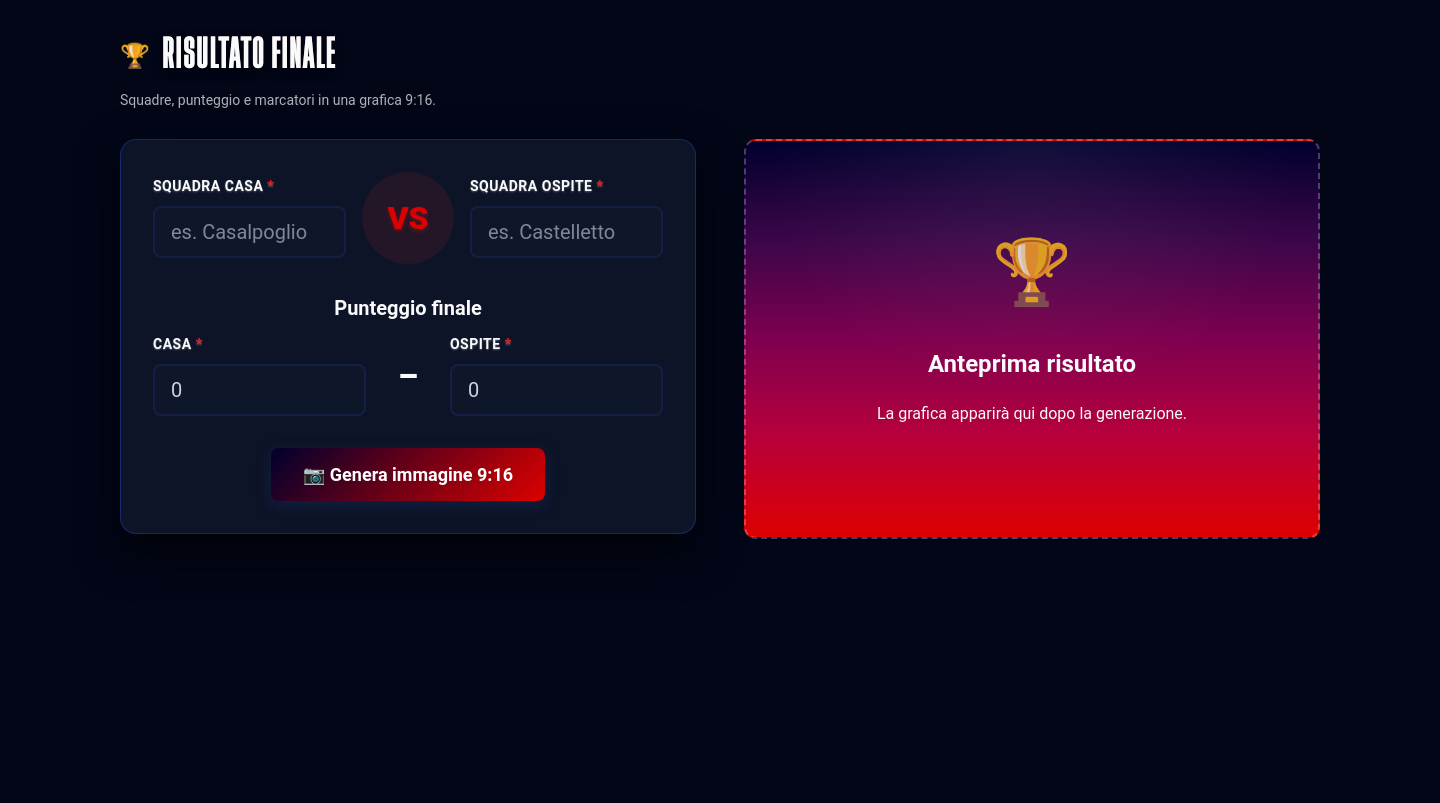
it: persistenza del risultato finale › aggiorna il numero dei marcatori quando cambiano i nomi e il punteggio
This screenshot has width=1440, height=803.
Type "Polisportiva Casalpoglo" into the field labelled "Squadra casa*".
click(250, 232); type("Polisportiva Casalpoglo")  # box [153,206,346,258]
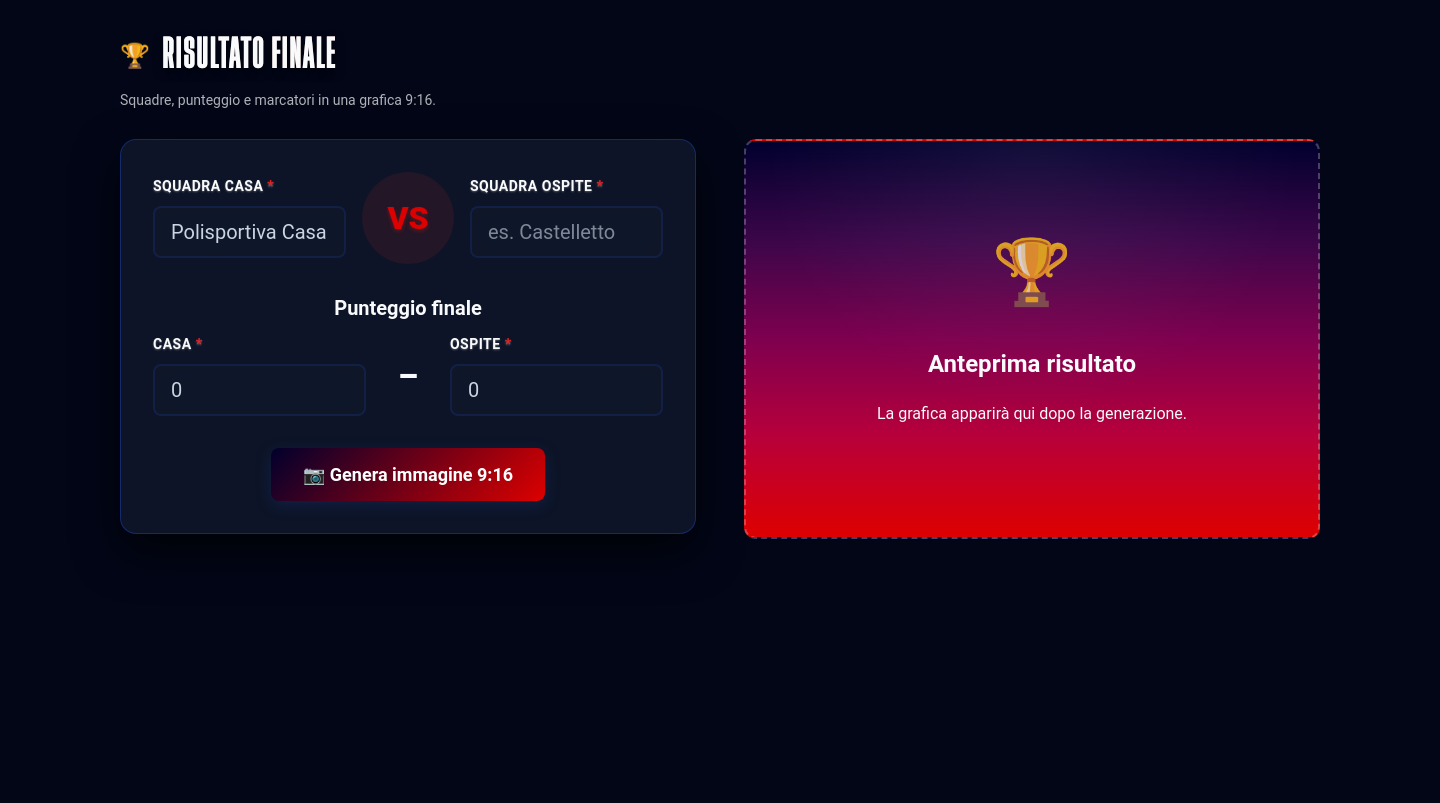
Type "Castelletto" into the field labelled "Squadra ospite*".
click(566, 232); type("Castelletto")  # box [470,206,663,258]
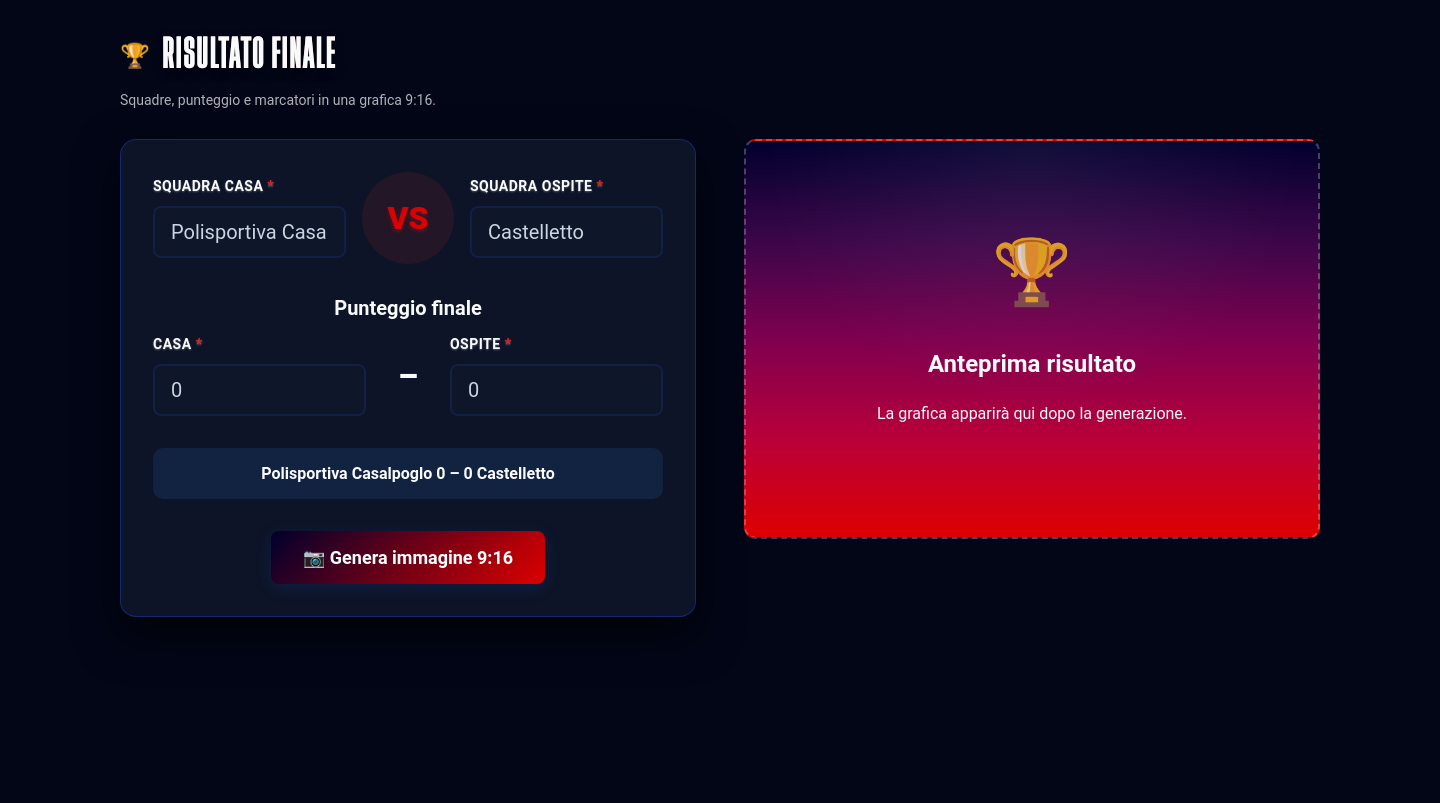
Replace the text in the number field labelled "Casa*" with "1" at (260, 390), box [153,364,366,416]
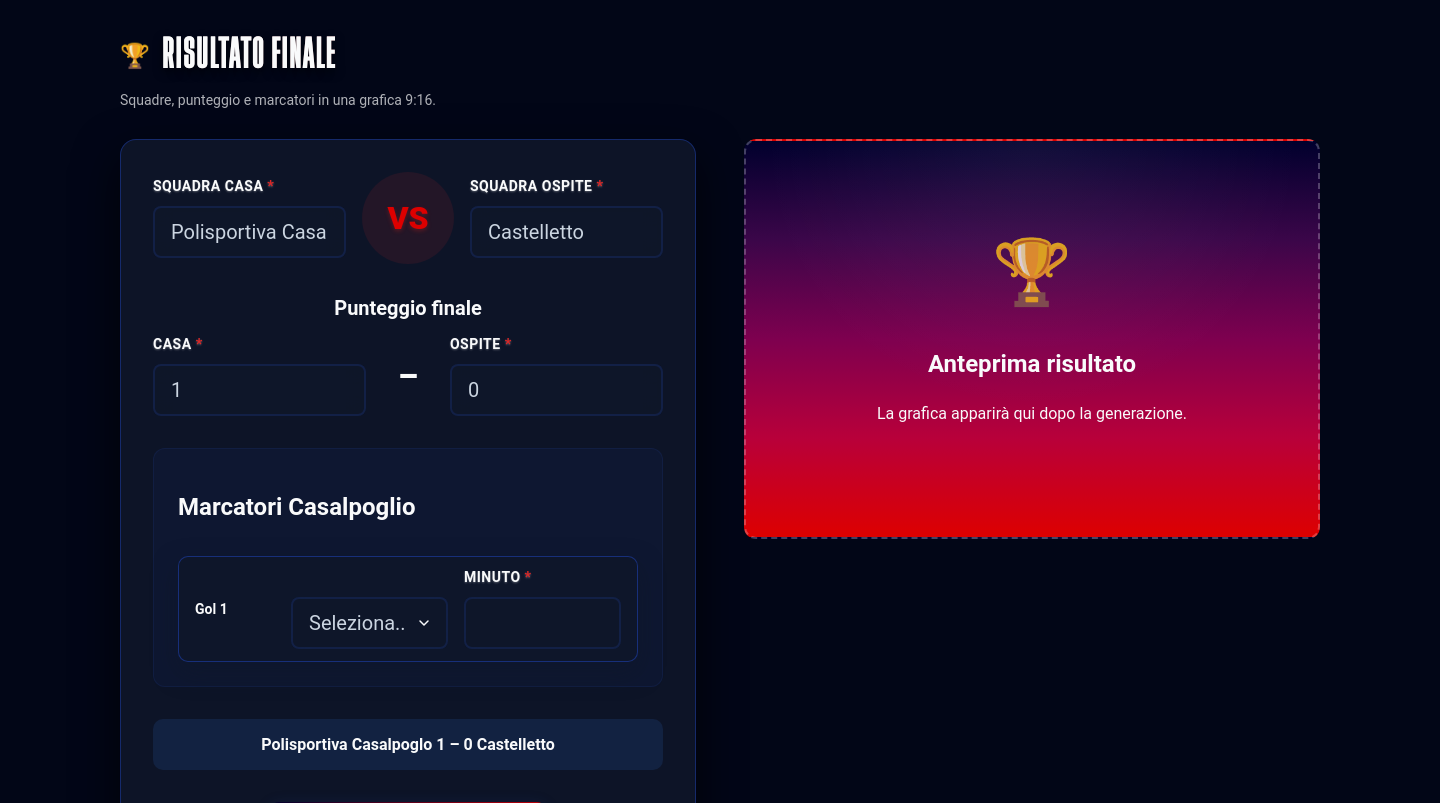
Replace the text in the number field labelled "Ospite*" with "2" at (556, 390), box [450,364,663,416]
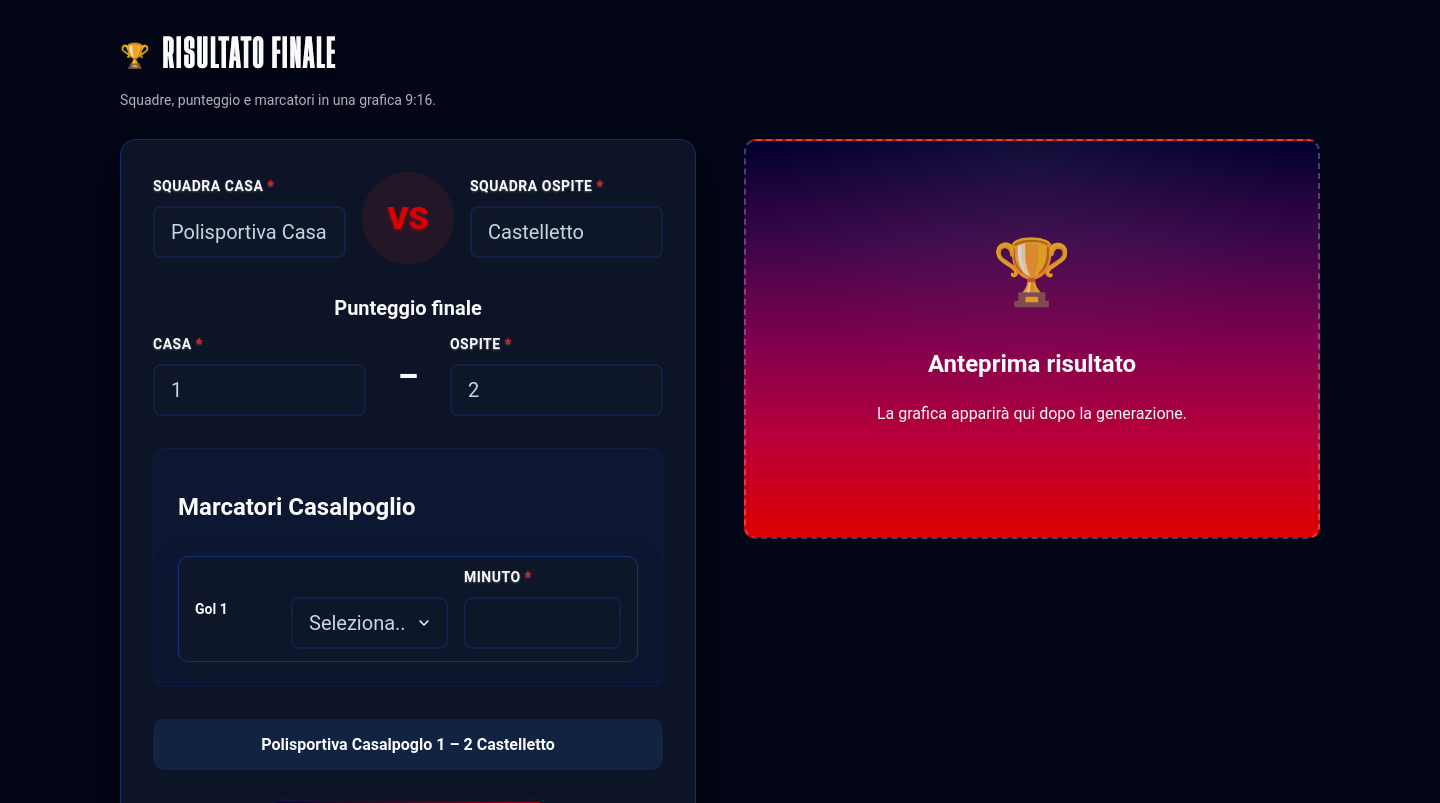
Expected: the number of dropdowns is 1, [291,597,448,649]
Replace the text in the field labelled "Squadra ospite*" with "Casalpoglio" at (566, 232), box [470,206,663,258]
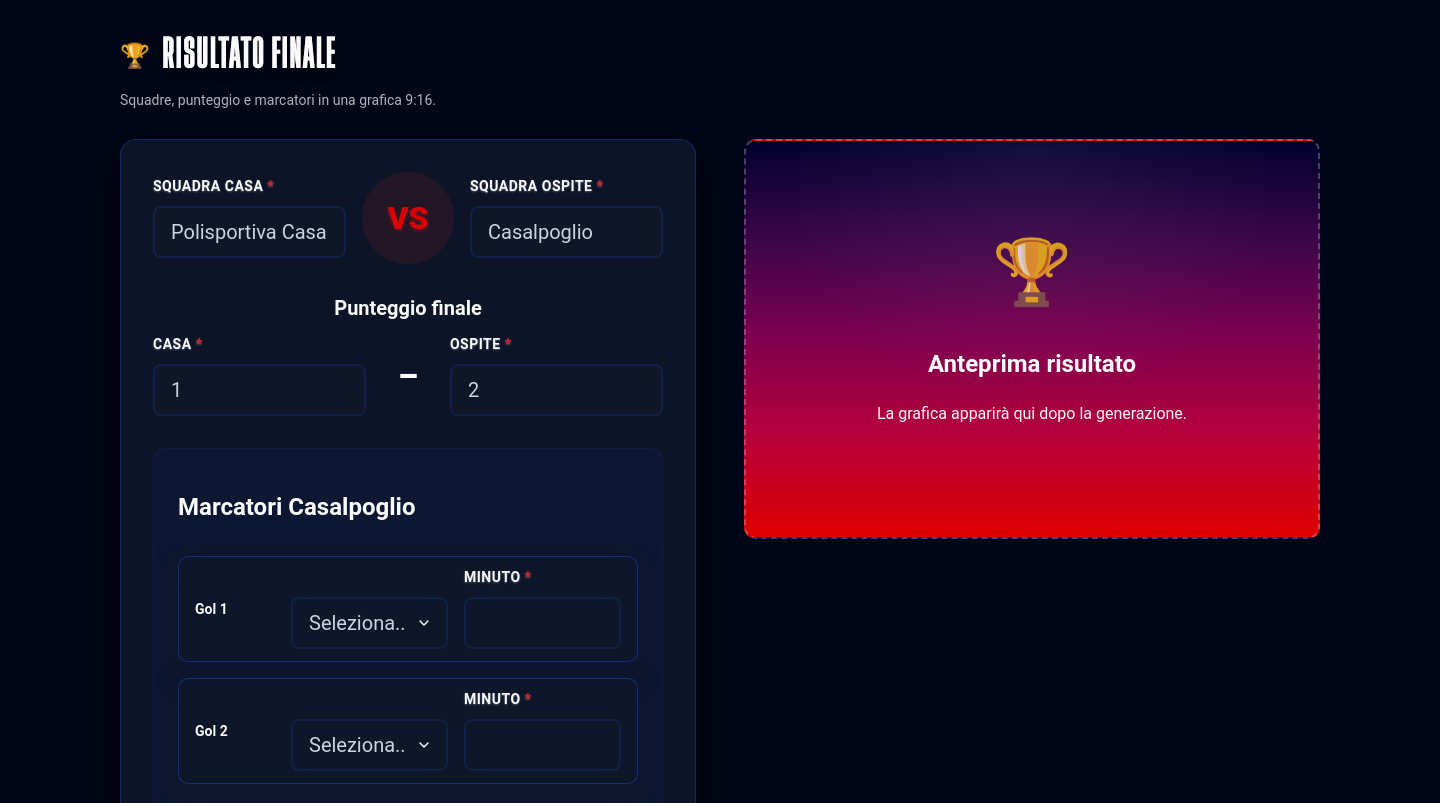
Expected: the number of dropdowns is 2, [291,597,448,649]; [291,719,448,771]
Replace the text in the number field labelled "Ospite*" with "0" at (556, 390), box [450,364,663,416]
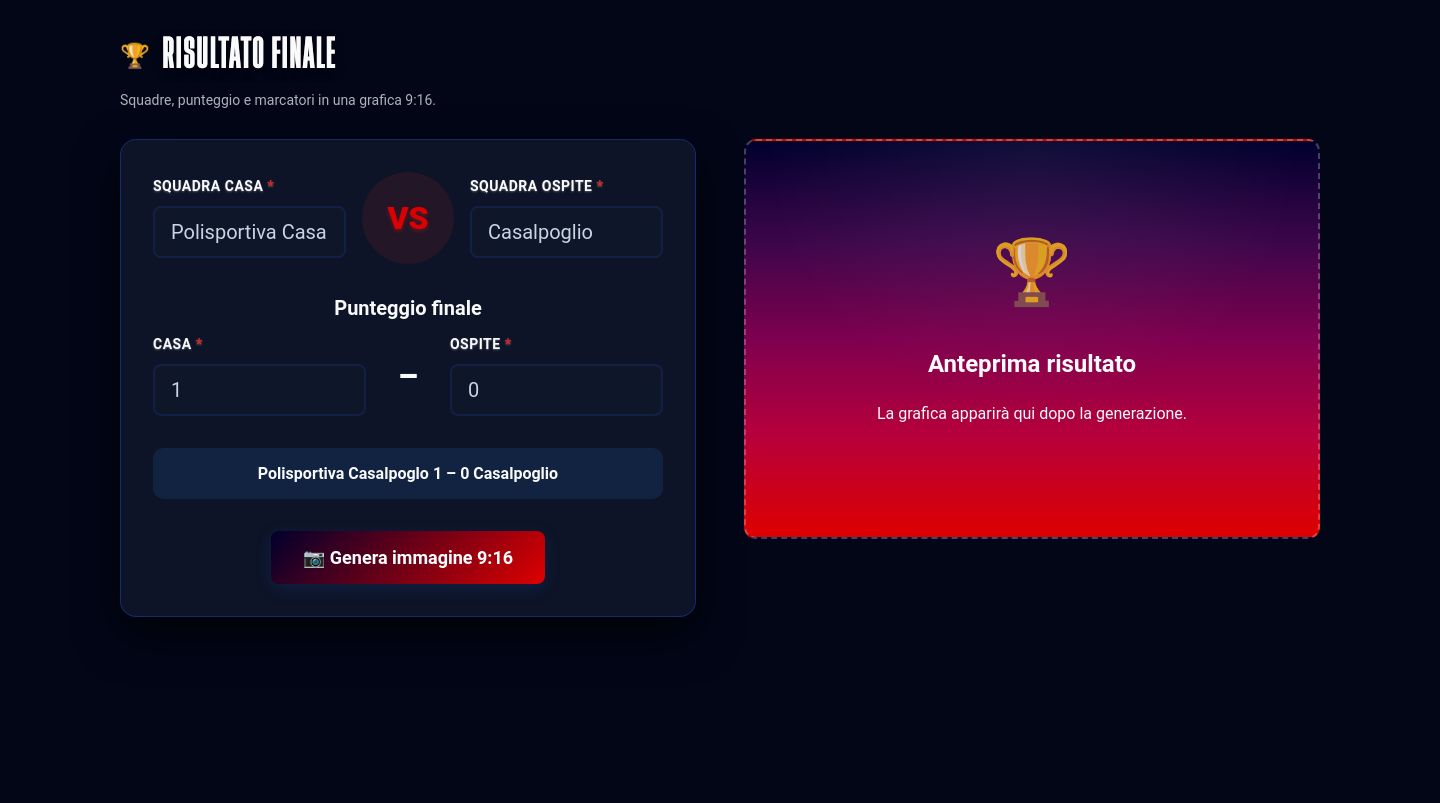
Expected: the dropdown is gone
